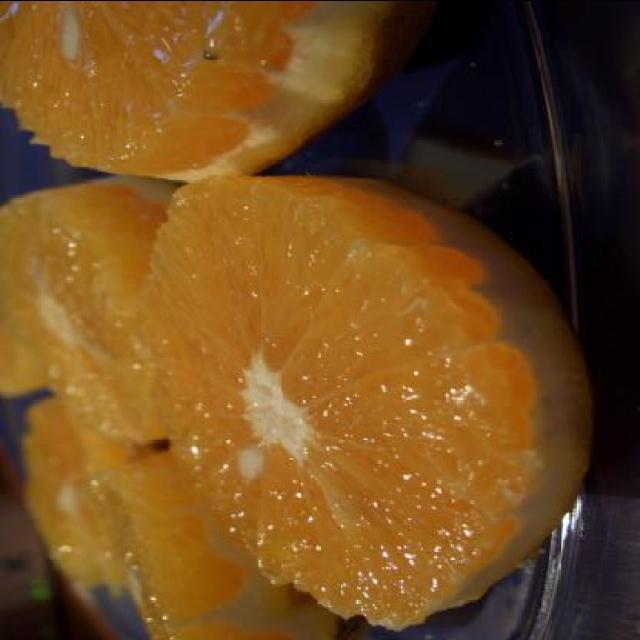Orange: (37, 154, 560, 618)
